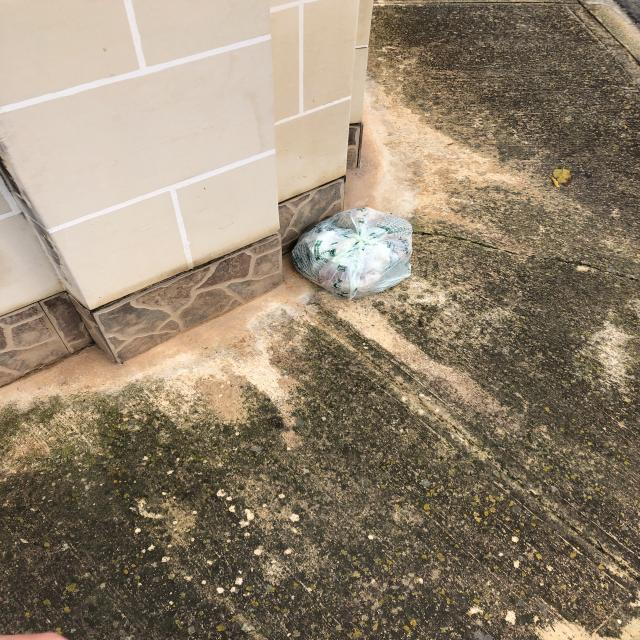Organic Waste -White Bag-: (289, 201, 419, 300)
